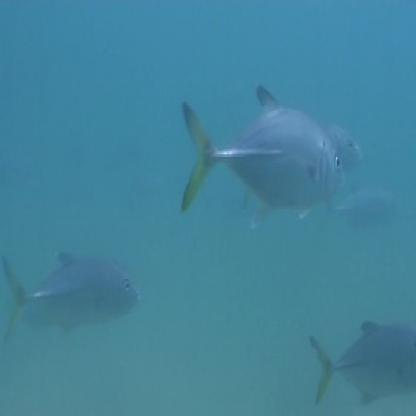jack: (172, 72, 346, 242), (1, 225, 144, 344), (307, 310, 413, 414)
